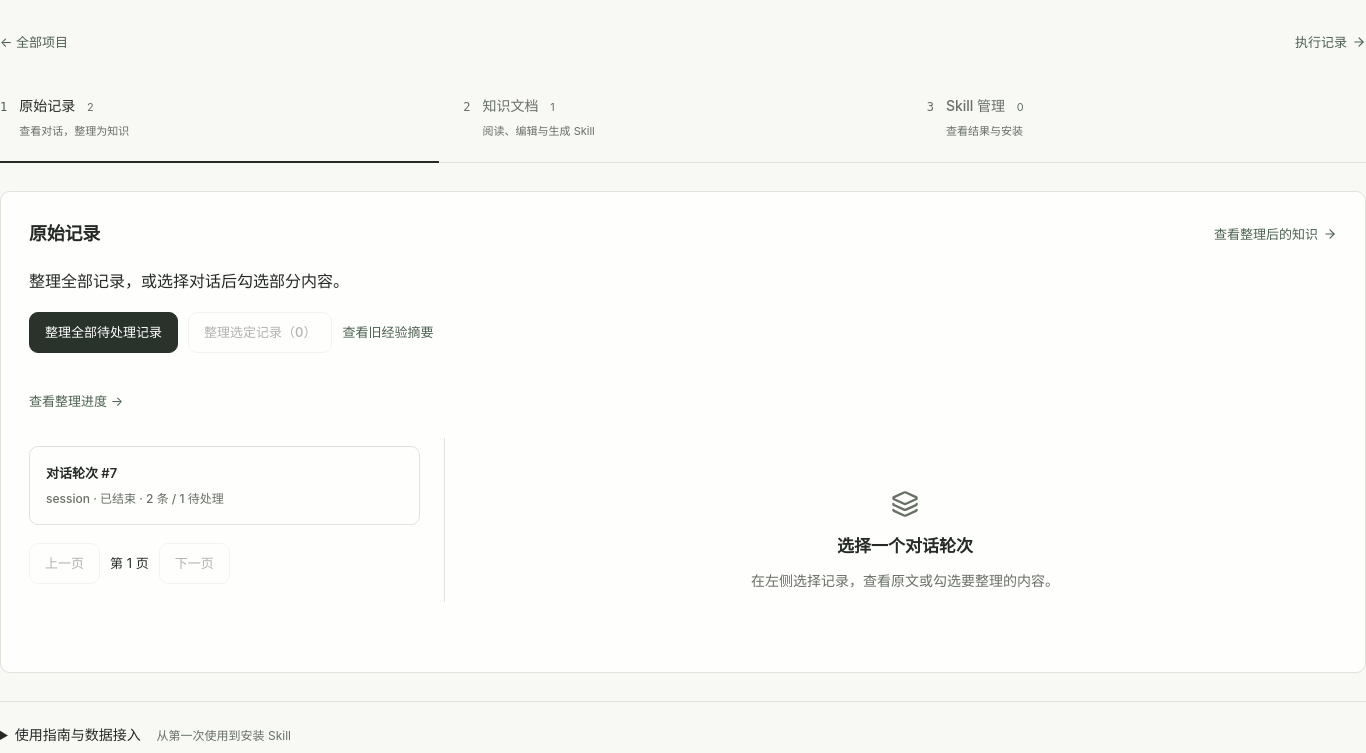
Test: selects only unprocessed records on the current page and submits their IDs
The width and height of the screenshot is (1366, 753).
(page scrolled)
What coordinates should you click on to do the following:
click the button "对话轮次 #7 session · 已结束 · 2 条 / 1 待处理"
I would click on:
 (82, 472)
Its box is x1=29 y1=446 x2=420 y2=526.
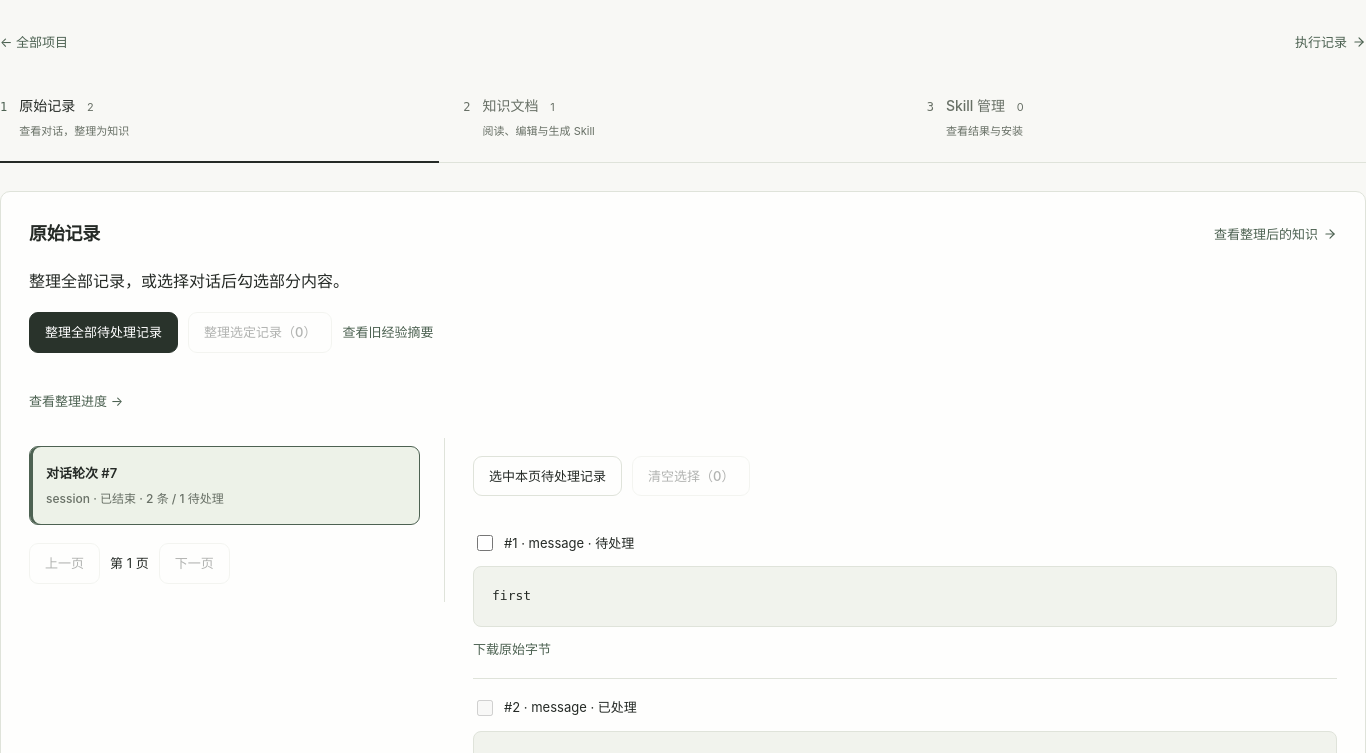
What coordinates should you click on to do the following:
click the button "选中本页待处理记录"
I would click on:
 (548, 476)
Its box is x1=473 y1=456 x2=622 y2=496.
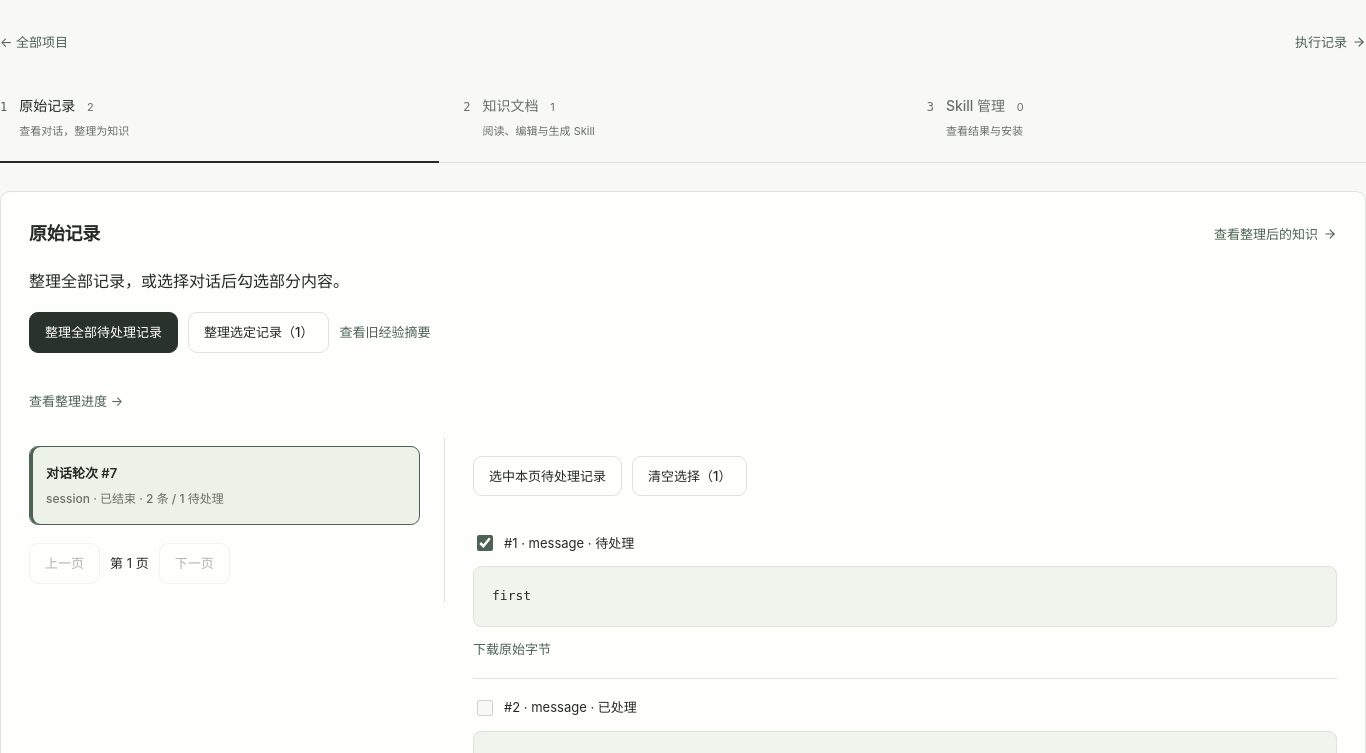
What coordinates should you click on to do the following:
click the button "整理选定记录（1）"
I would click on:
 (259, 332)
Its box is x1=188 y1=312 x2=329 y2=353.
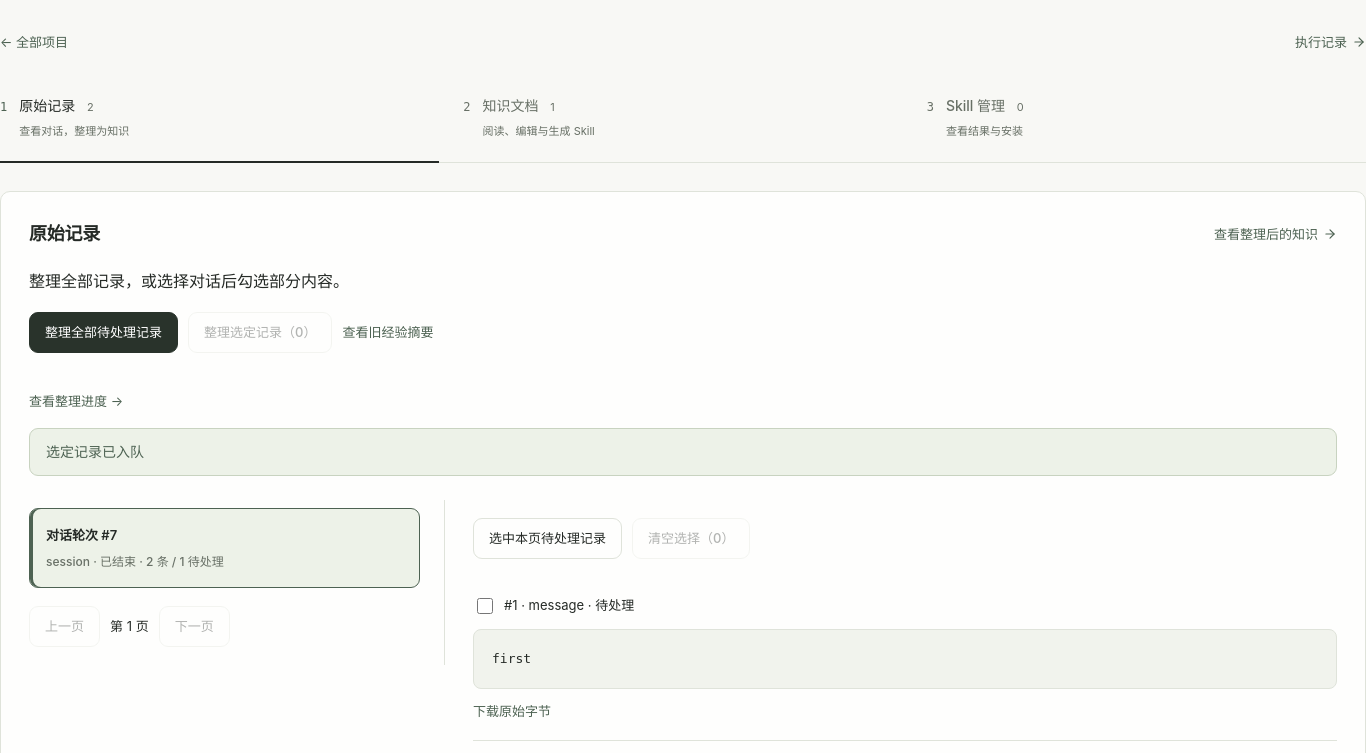
Now the text "选定记录已入队" is shown, box x1=29 y1=428 x2=1337 y2=476
